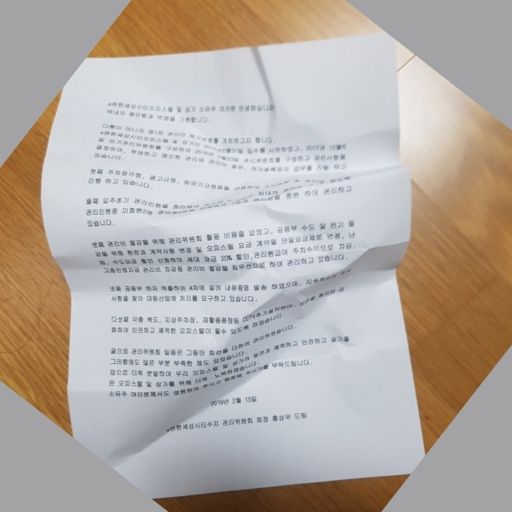Paper_3: (26, 33, 437, 493)
